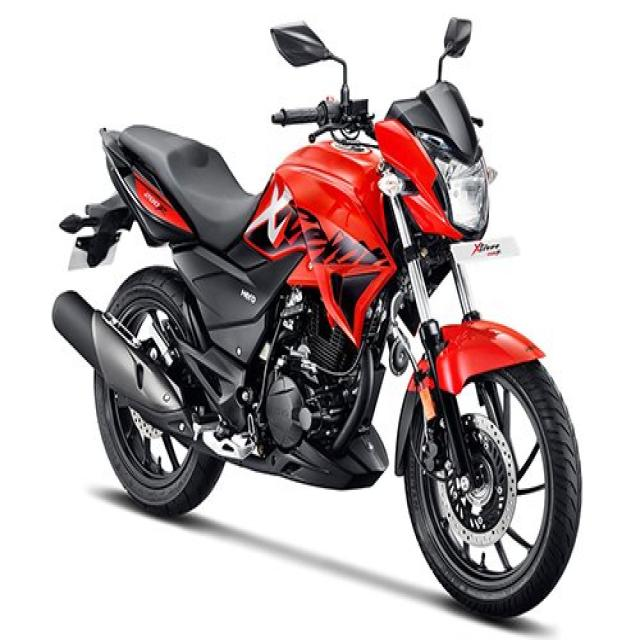bike: (50, 19, 580, 585)
